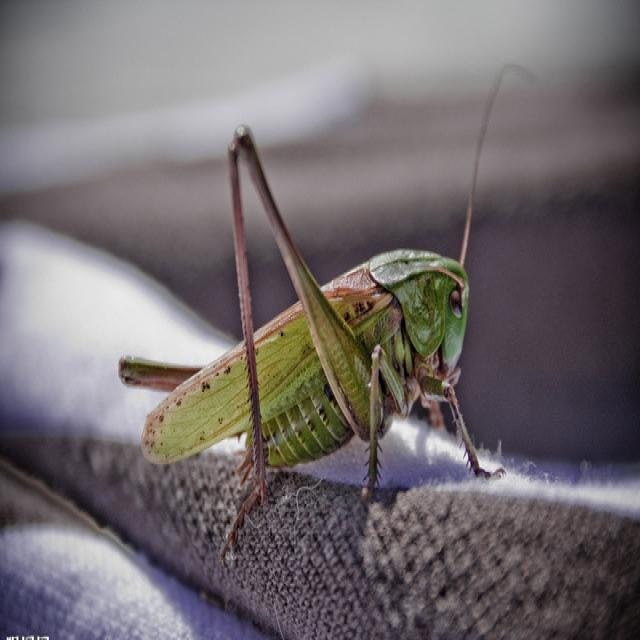ZhaMeng: (81, 107, 529, 539)
